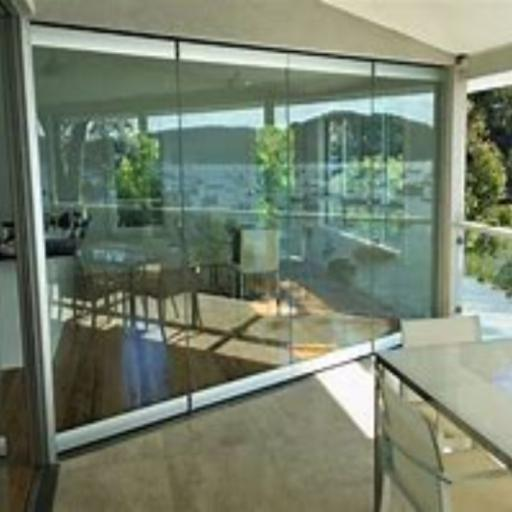bus: (378, 386, 511, 511), (424, 407, 470, 448)
elevator: (34, 31, 441, 431), (0, 2, 41, 511)
stroller: (376, 341, 511, 467)
